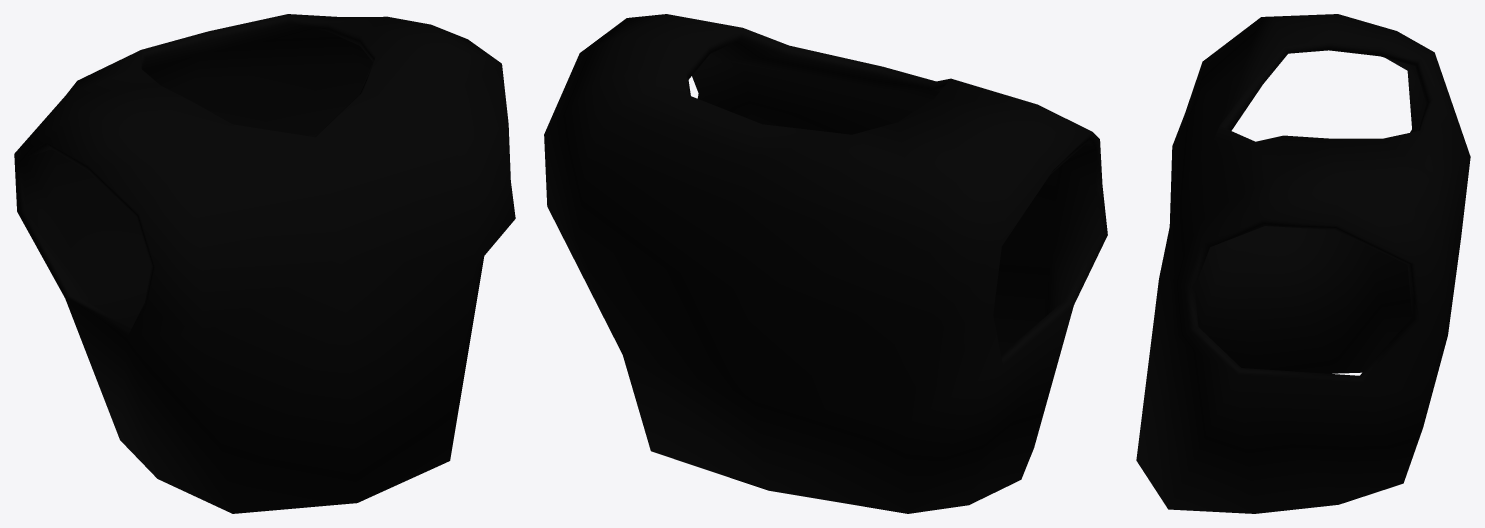
Rendered from Armor_Leather.fbx.
3 renders of one model, left to right at view 1: azimuth 30°, elevation 25°; view 2: azimuth 150°, elevation 25°; view 3: azimuth 270°, elevation 25°, orthographic. The views are drawn at different scales.
Visible parts, largest first — view 1: Armor_Leather; view 2: Armor_Leather; view 3: Armor_Leather.
Boxes of the visible parts, box(x1,y1,x2,y2) form: Armor_Leather: box(14, 14, 515, 513); Armor_Leather: box(544, 14, 1107, 513); Armor_Leather: box(1136, 14, 1470, 513).
Size of the model in its own units: 97.54 by 82.16 by 67.04.
